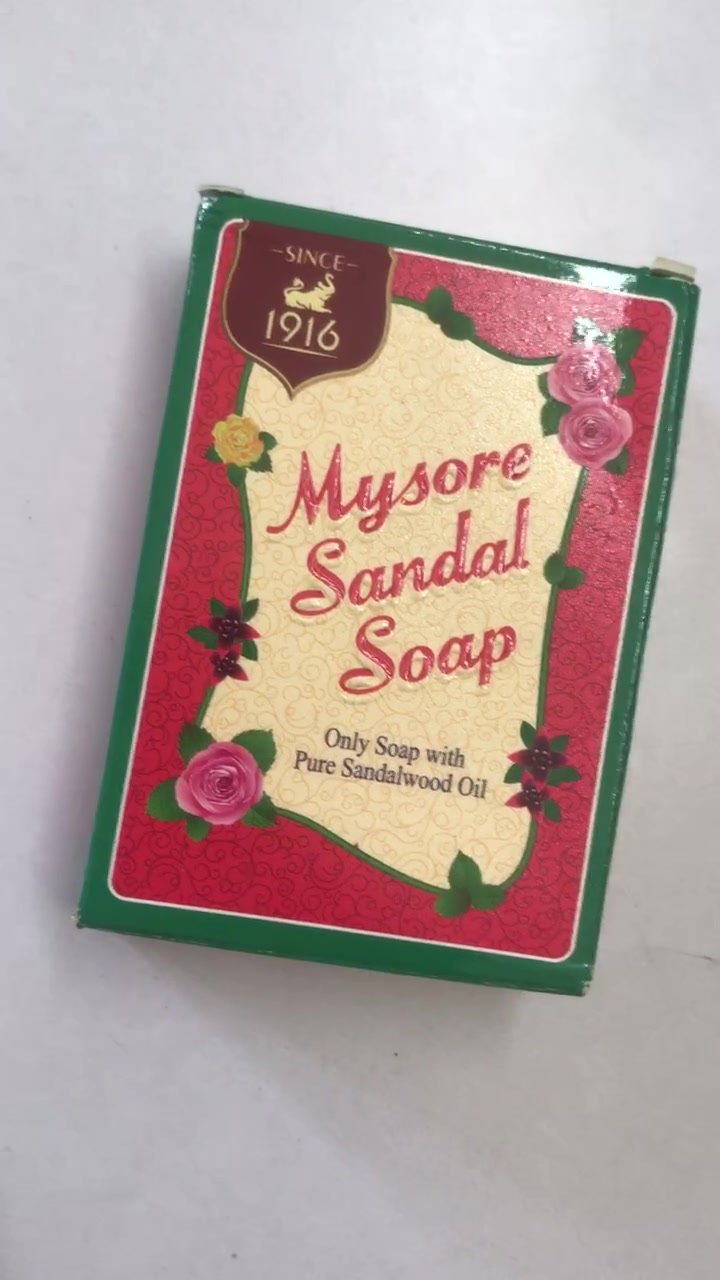mysore sandal soap: (71, 191, 698, 998)
